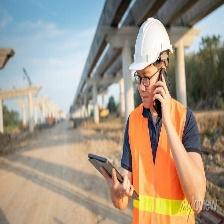Person: (118, 5, 203, 224)
helmet: (128, 19, 176, 73)
vest: (128, 99, 199, 224)
